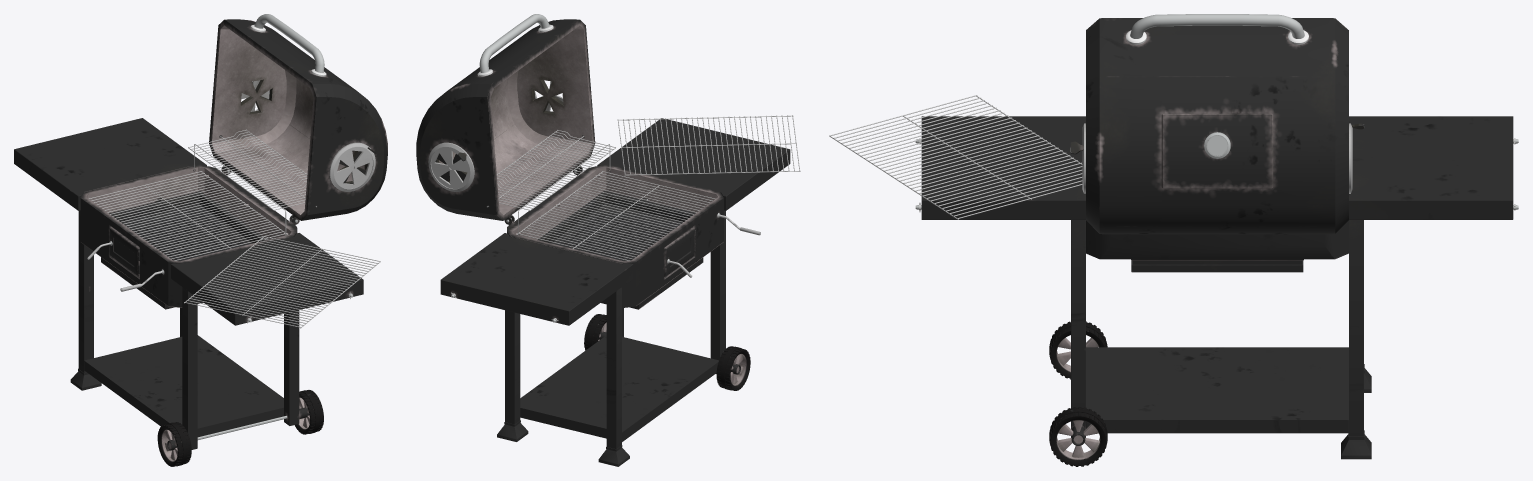
File: barbecue_2.glb
3 renders of one model, left to right at view 1: azimuth 30°, elevation 25°; view 2: azimuth 150°, elevation 25°; view 3: azimuth 270°, elevation 25°, orthographic. The views are drawn at different scales.
Visible parts, largest first — view 1: Barbecue; view 2: Barbecue; view 3: Barbecue.
Boxes of the visible parts, x1=… form: Barbecue: x1=14, y1=14, x2=387, y2=466; Barbecue: x1=416, y1=14, x2=800, y2=466; Barbecue: x1=829, y1=14, x2=1518, y2=466.
Bounding box in the file's own units: 4.74 × 6.07 × 8.02.
1 material, 1 textured.
